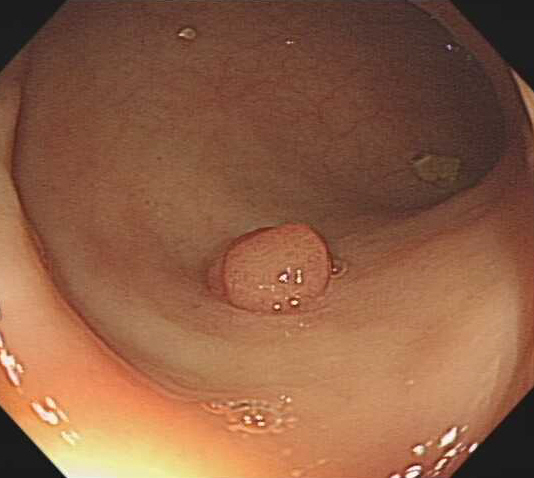adenoma: (215, 219, 333, 315)
